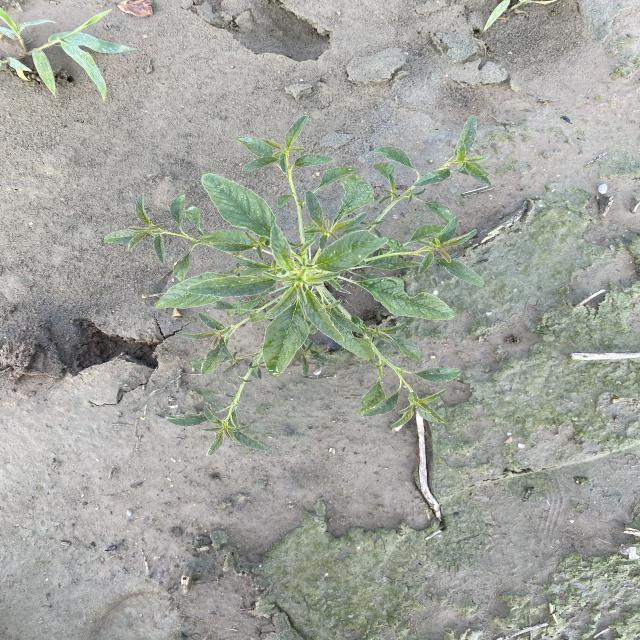Waterhemp: (100, 114, 498, 458)
